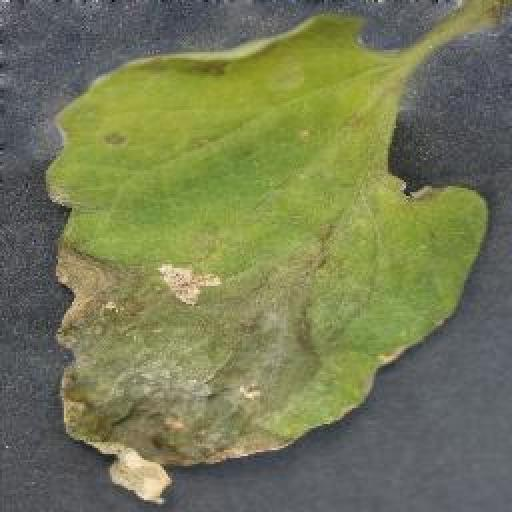Late Blight: (35, 6, 492, 510)
